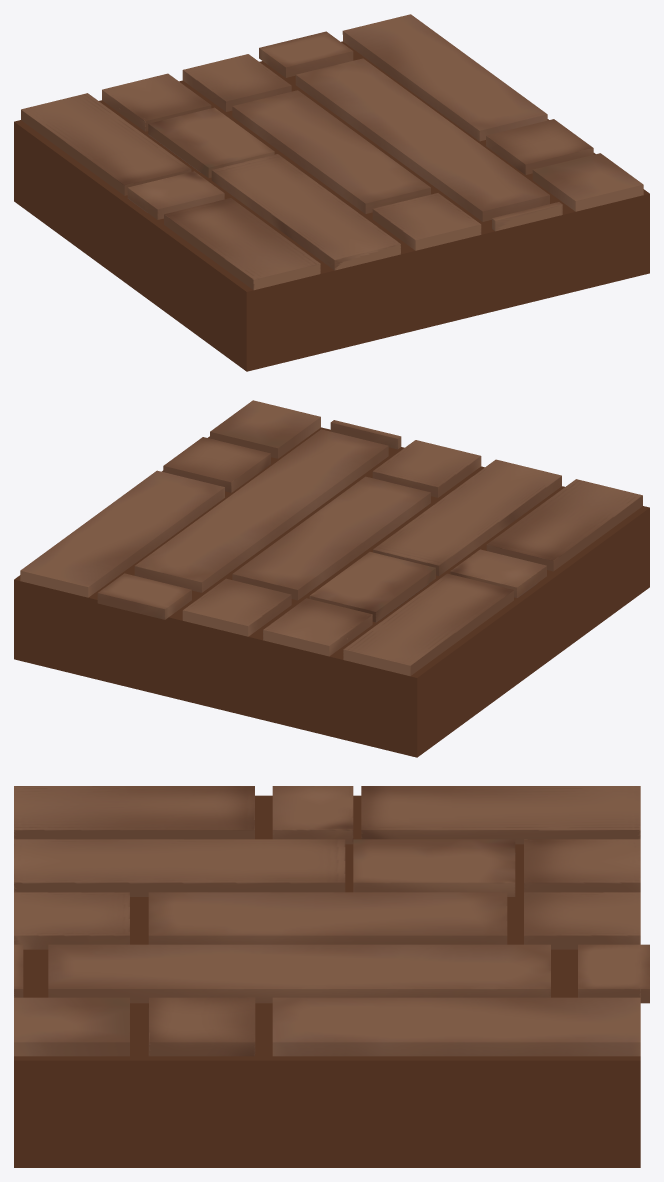
Rendered from wood_tile.glb.
The picture shows the model from 3 angles, top to bottom: view 1: azimuth 30°, elevation 25°; view 2: azimuth 150°, elevation 25°; view 3: azimuth 270°, elevation 25°; orthographic projection. The views are drawn at different scales.
Parts seen in each view (by area): view 1: Cube.022; view 2: Cube.022; view 3: Cube.022.
Part boxes in pixels (x1=…): Cube.022: x1=14, y1=14, x2=649, y2=371; Cube.022: x1=14, y1=400, x2=649, y2=757; Cube.022: x1=14, y1=786, x2=649, y2=1167.
Size of the model in its own units: 4 by 0.8559 by 4.06.
Materials: 1 (1 with a texture image).
